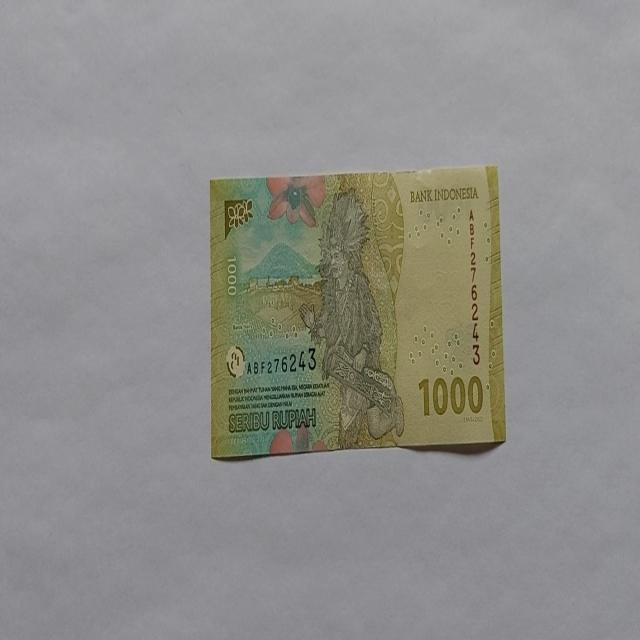seribu rupiah kertas: (208, 163, 506, 460)
